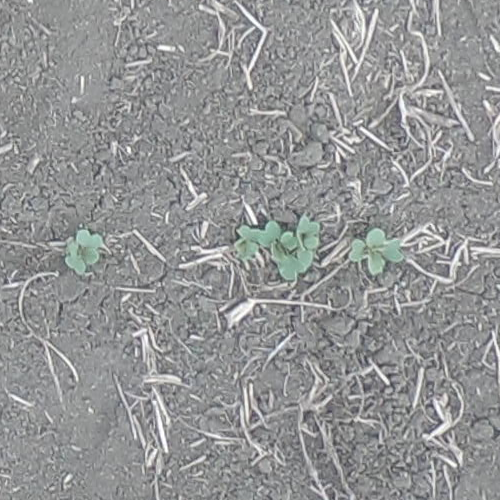clumped: (234, 216, 320, 285)
isolated: (351, 225, 401, 274), (63, 230, 104, 275)
